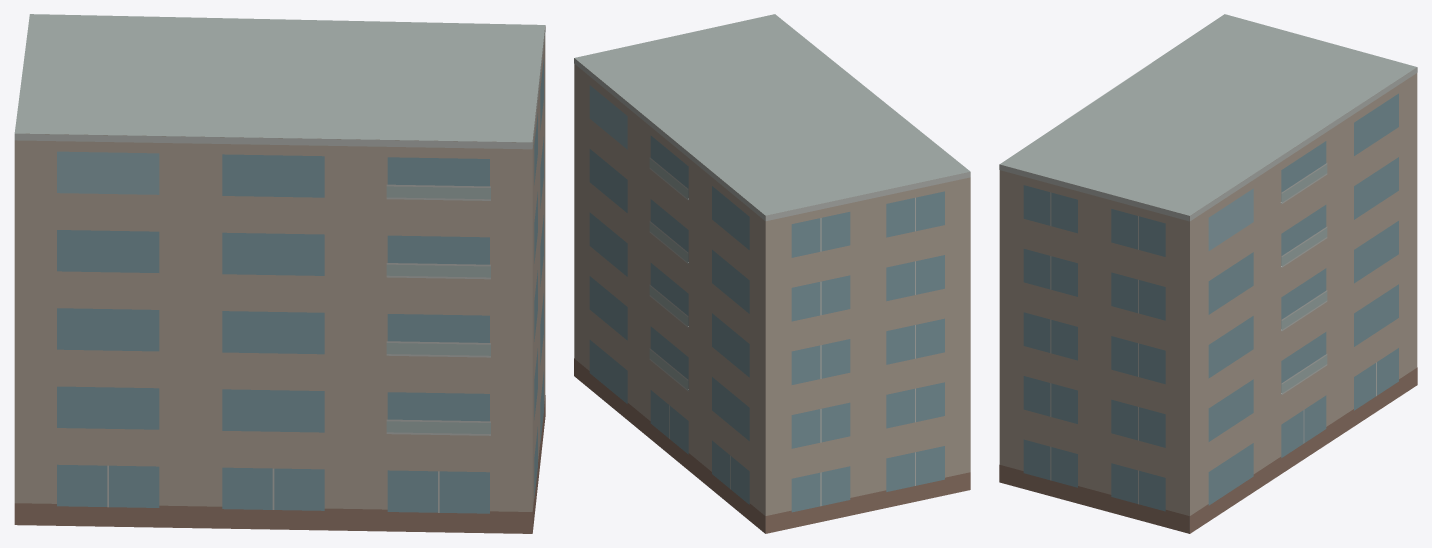
Rendered from survey-upis-32963217.glb.
3 views of the same model, side by side, from view 1: azimuth 30°, elevation 25°; view 2: azimuth 150°, elevation 25°; view 3: azimuth 270°, elevation 25° (orthographic). The views are drawn at different scales.
Parts seen in each view (by area): view 1: survey-upis-32963217.tmp; view 2: survey-upis-32963217.tmp; view 3: survey-upis-32963217.tmp.
Part boxes in pixels (x1=…): survey-upis-32963217.tmp: x1=14, y1=14, x2=545, y2=533; survey-upis-32963217.tmp: x1=574, y1=14, x2=970, y2=533; survey-upis-32963217.tmp: x1=999, y1=14, x2=1417, y2=533.
Size of the model in its own units: 18.8 by 13.8 by 16.44.
